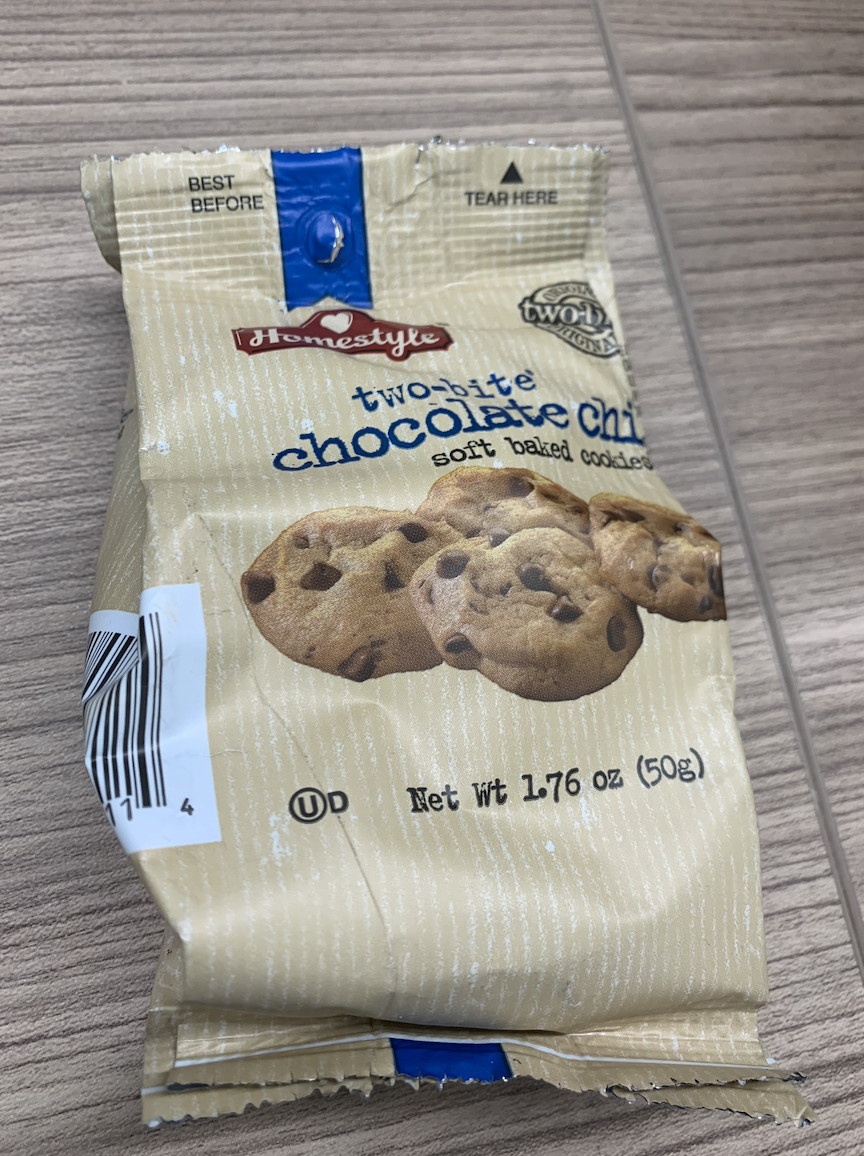cookies_1g-99g: (203, 190, 711, 1021)
